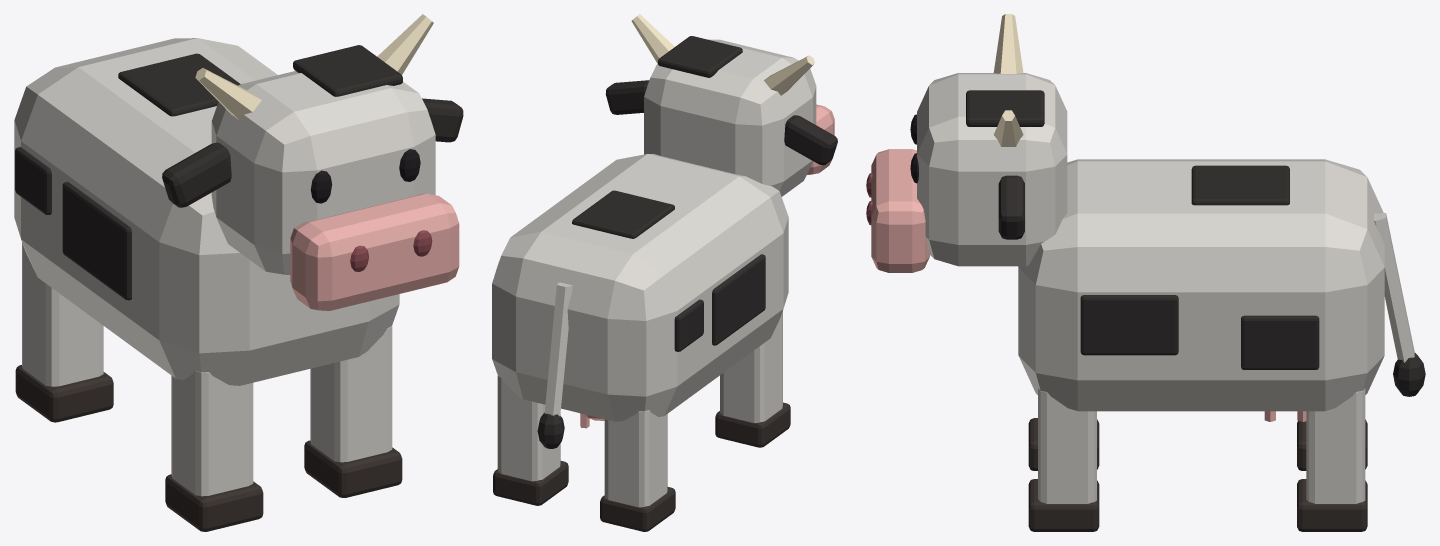
File: cow_holstein.glb
The picture shows the model from 3 angles, left to right: view 1: azimuth 30°, elevation 25°; view 2: azimuth 150°, elevation 25°; view 3: azimuth 270°, elevation 25°; orthographic projection. The views are drawn at different scales.
Visible parts, largest first — view 1: body_mesh, head_mesh, leg_fr_mesh, leg_fl_mesh, leg_br_mesh, ear_r_mesh, ear_l_mesh; view 2: body_mesh, head_mesh, leg_br_mesh, leg_fr_mesh, leg_bl_mesh, tail_mesh, ear_r_mesh, ear_l_mesh; view 3: body_mesh, head_mesh, leg_bl_mesh, leg_fl_mesh, tail_mesh, ear_l_mesh, leg_fr_mesh.
Boxes of the visible parts, left/top/right/bottom form: body_mesh: left=14, top=38, right=399, bottom=385; head_mesh: left=195, top=14, right=459, bottom=311; leg_fr_mesh: left=165, top=370, right=263, bottom=531; leg_fl_mesh: left=304, top=326, right=402, bottom=497; leg_br_mesh: left=15, top=242, right=113, bottom=422; ear_r_mesh: left=162, top=142, right=231, bottom=207; ear_l_mesh: left=422, top=98, right=463, bottom=142; body_mesh: left=492, top=154, right=788, bottom=428; head_mesh: left=631, top=14, right=834, bottom=196; leg_br_mesh: left=600, top=410, right=675, bottom=531; leg_fr_mesh: left=715, top=311, right=790, bottom=447; leg_bl_mesh: left=493, top=376, right=568, bottom=505; tail_mesh: left=537, top=282, right=572, bottom=448; ear_r_mesh: left=784, top=115, right=837, bottom=165; ear_l_mesh: left=605, top=80, right=649, bottom=114; body_mesh: left=1018, top=159, right=1384, bottom=421; head_mesh: left=866, top=14, right=1067, bottom=272; leg_bl_mesh: left=1297, top=388, right=1367, bottom=531; leg_fl_mesh: left=1028, top=388, right=1099, bottom=531; tail_mesh: left=1374, top=213, right=1425, bottom=396; ear_l_mesh: left=998, top=175, right=1024, bottom=239; leg_fr_mesh: left=1028, top=418, right=1099, bottom=470.
Size of the model in its own units: 0.9294 by 1.44 by 1.71.
